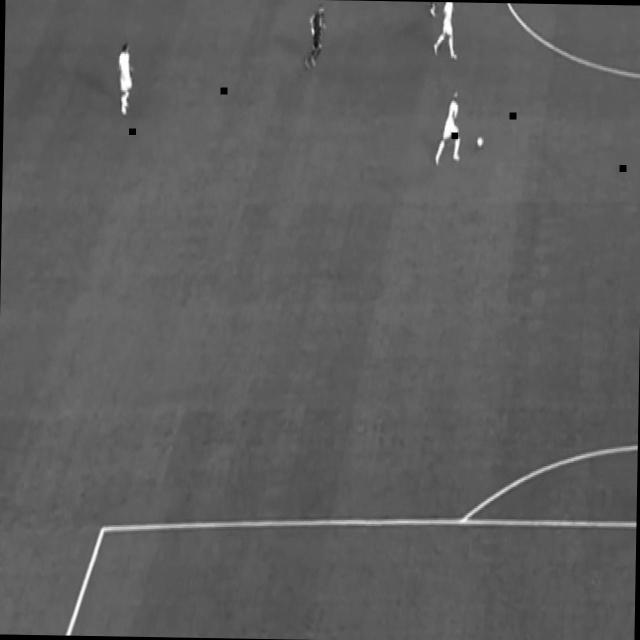ball: (475, 133, 485, 151)
player-white: (432, 87, 463, 171), (115, 36, 137, 121), (302, 0, 327, 74), (431, 2, 461, 62), (421, 2, 439, 22)
